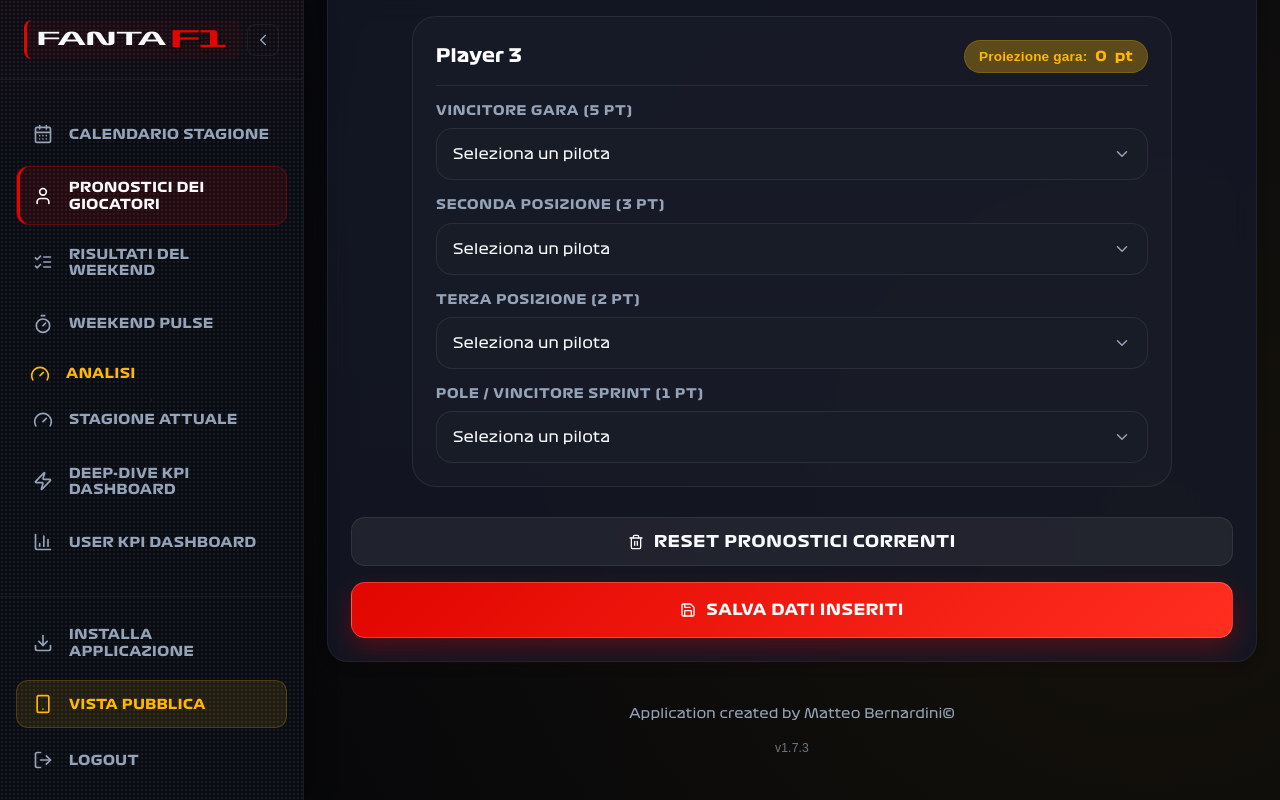
Test: Manual predictions save UI › posts the manual save to /api/predictions when at least one prediction exists
(page scrolled)
Click the button "Salva dati inseriti": (792, 610) [351, 582, 1233, 638]
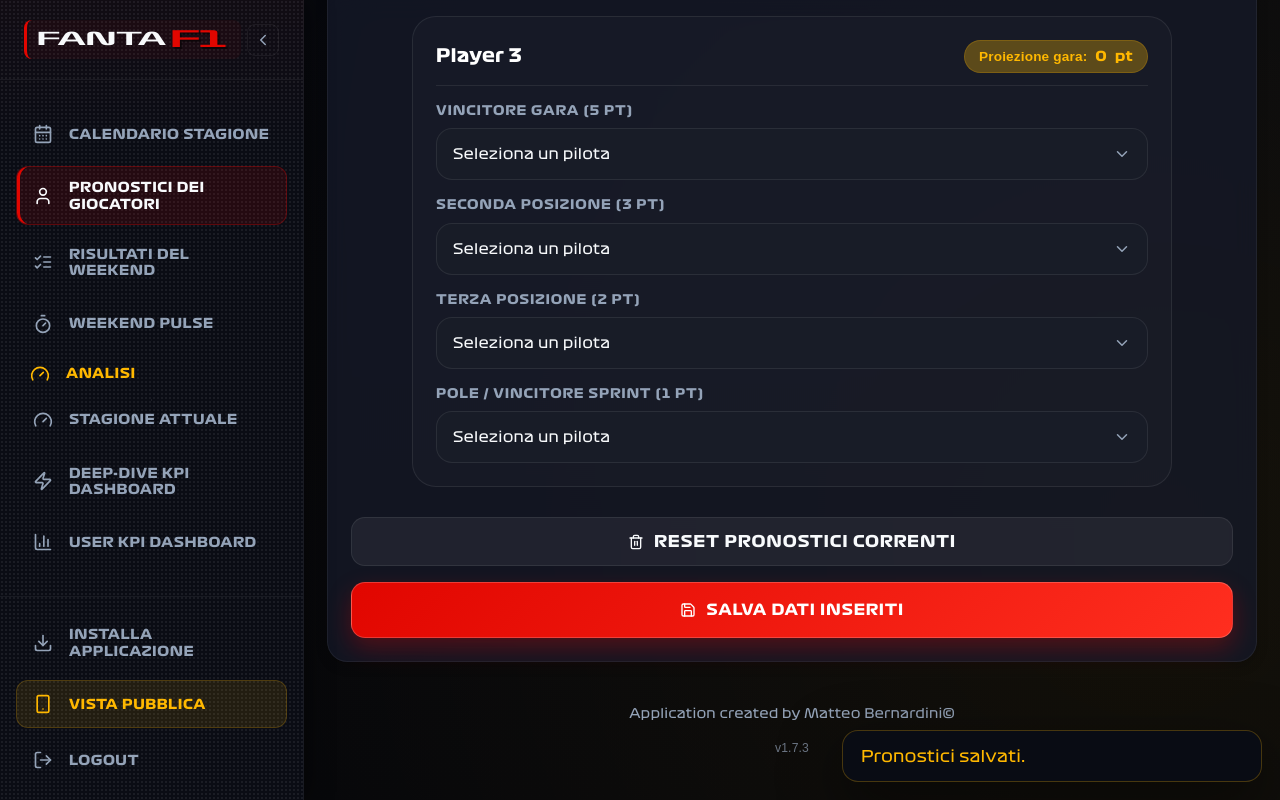
Expected: the message reads "Pronostici salvati.", [861, 748, 1025, 764]
